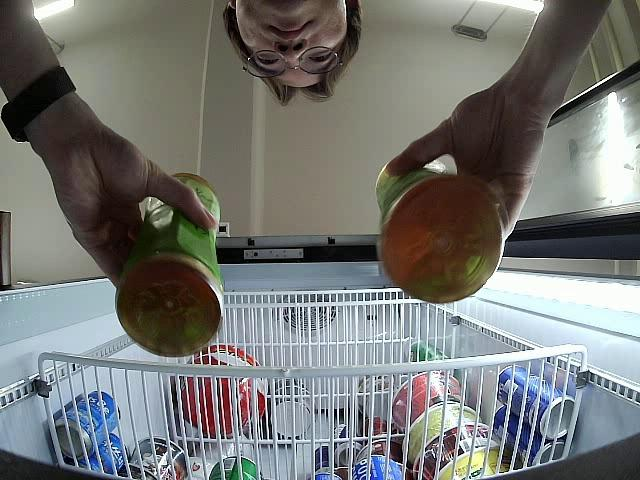00_hand: (50, 126, 216, 286), (383, 88, 549, 240)
19_17cha: (114, 174, 224, 358), (374, 159, 506, 305)
